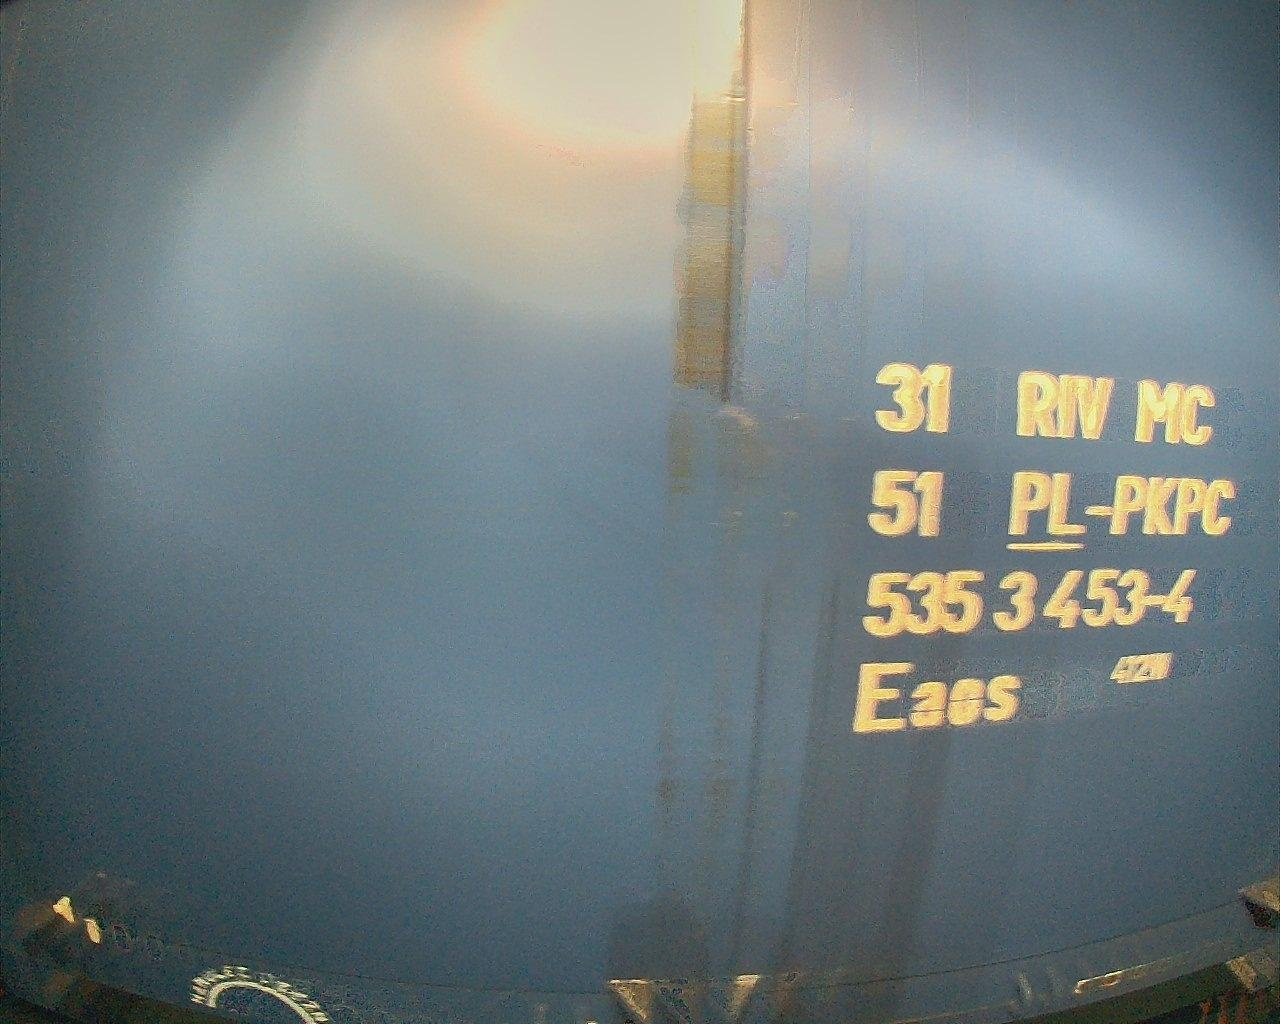UIC: (848, 357, 1240, 739)
